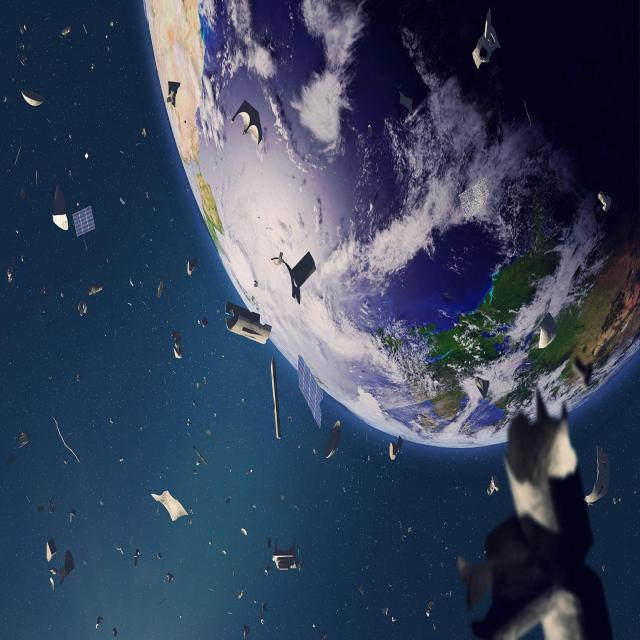large_debris: (458, 394, 613, 640), (271, 251, 316, 304), (225, 302, 271, 345), (297, 354, 323, 428), (472, 11, 500, 69), (586, 448, 610, 505), (231, 101, 262, 145), (459, 177, 489, 220), (52, 416, 79, 461), (151, 492, 187, 523), (272, 540, 297, 572), (273, 358, 282, 442), (53, 184, 68, 230), (71, 207, 94, 236), (539, 312, 558, 347), (56, 552, 73, 586), (327, 419, 341, 460), (20, 90, 45, 107), (170, 330, 182, 360), (167, 82, 181, 106), (389, 438, 402, 461), (193, 445, 207, 465), (487, 476, 500, 497), (45, 540, 56, 564), (599, 192, 612, 212), (16, 429, 29, 447), (15, 135, 22, 167), (86, 282, 102, 296), (524, 100, 532, 127), (194, 375, 208, 389), (187, 257, 196, 277), (426, 602, 435, 619), (139, 125, 148, 141), (156, 279, 163, 299), (77, 301, 86, 316), (46, 541, 53, 560), (197, 316, 208, 328), (7, 263, 13, 283), (133, 551, 140, 568), (96, 615, 103, 631), (83, 149, 90, 164), (240, 526, 248, 538), (186, 416, 193, 429), (108, 415, 115, 428), (60, 26, 69, 36), (116, 544, 124, 555), (49, 496, 54, 513), (118, 453, 125, 465), (112, 626, 118, 640), (118, 196, 126, 206), (6, 457, 14, 467), (35, 170, 40, 186), (188, 508, 193, 524), (70, 509, 76, 522), (158, 595, 165, 606), (82, 236, 87, 251), (243, 627, 249, 639), (20, 55, 26, 67), (48, 567, 57, 575), (129, 275, 135, 286), (225, 496, 233, 504), (36, 505, 44, 513), (167, 573, 174, 582), (265, 567, 272, 576), (382, 609, 389, 617), (20, 25, 27, 33), (50, 577, 54, 591), (40, 286, 46, 295), (142, 301, 148, 310), (262, 603, 268, 612), (298, 563, 303, 573), (246, 468, 253, 475), (156, 552, 162, 560), (126, 300, 132, 308), (238, 591, 244, 599), (259, 615, 264, 624), (90, 62, 94, 73), (83, 24, 87, 35), (267, 539, 271, 550), (63, 460, 69, 467), (26, 596, 31, 604), (220, 353, 226, 359), (20, 41, 24, 50), (76, 375, 81, 382), (294, 504, 299, 511), (21, 253, 24, 264), (360, 589, 364, 596), (408, 528, 412, 535), (3, 94, 6, 103), (392, 619, 397, 624), (222, 550, 226, 556), (61, 291, 64, 299), (402, 537, 406, 543), (146, 191, 149, 199), (321, 634, 325, 640), (228, 611, 234, 615), (207, 429, 211, 435), (196, 459, 199, 466), (193, 469, 197, 474), (47, 119, 52, 123), (139, 281, 144, 285), (210, 588, 215, 592), (281, 493, 284, 499), (110, 22, 114, 26), (53, 136, 57, 140), (107, 46, 110, 51), (69, 134, 72, 139), (434, 625, 436, 632), (107, 257, 109, 263), (209, 541, 212, 545), (254, 600, 257, 604), (313, 624, 315, 629), (180, 614, 182, 619), (105, 36, 108, 39), (164, 574, 165, 582), (253, 505, 256, 507)
